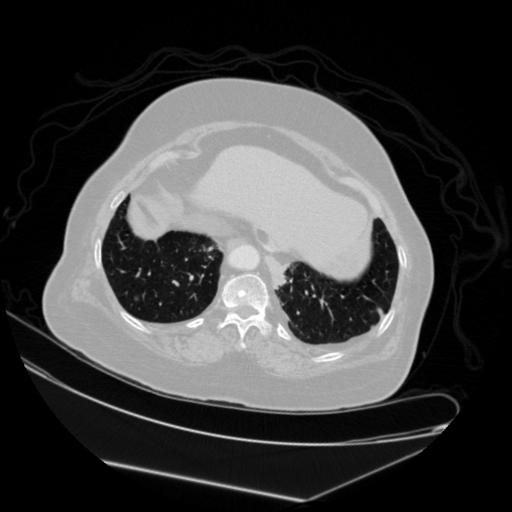nodule: (133, 293, 144, 304)
